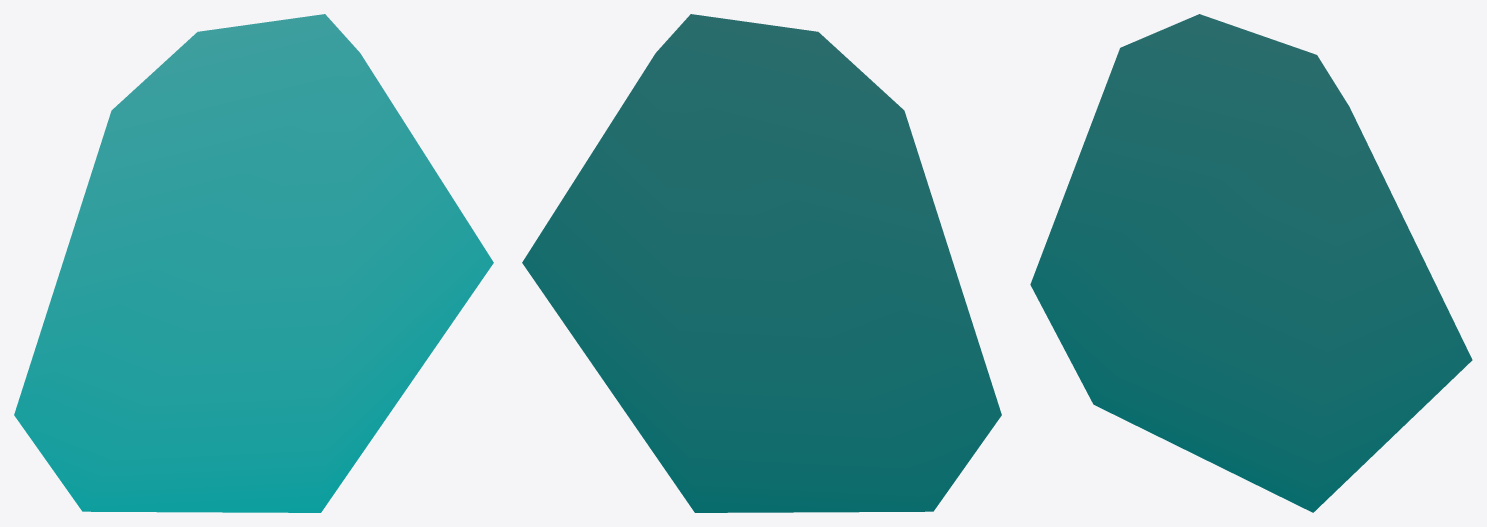
File: Flat_Leaf_Parsley_umkkeiaia_Low_umkkeiaia_VarB_LOD2.fbx
The picture shows the model from 3 angles, left to right: view 1: azimuth 30°, elevation 25°; view 2: azimuth 150°, elevation 25°; view 3: azimuth 330°, elevation 25°; orthographic projection. The views are drawn at different scales.
Visible parts, largest first — view 1: _se5k_VarB_LOD5; view 2: _se5k_VarB_LOD5; view 3: _se5k_VarB_LOD5.
Part boxes in pixels (x1=…): _se5k_VarB_LOD5: x1=14, y1=14, x2=493, y2=512; _se5k_VarB_LOD5: x1=522, y1=14, x2=1001, y2=512; _se5k_VarB_LOD5: x1=1030, y1=14, x2=1472, y2=512.
Size of the model in its own units: 32.93 by 33.53 by 0.
